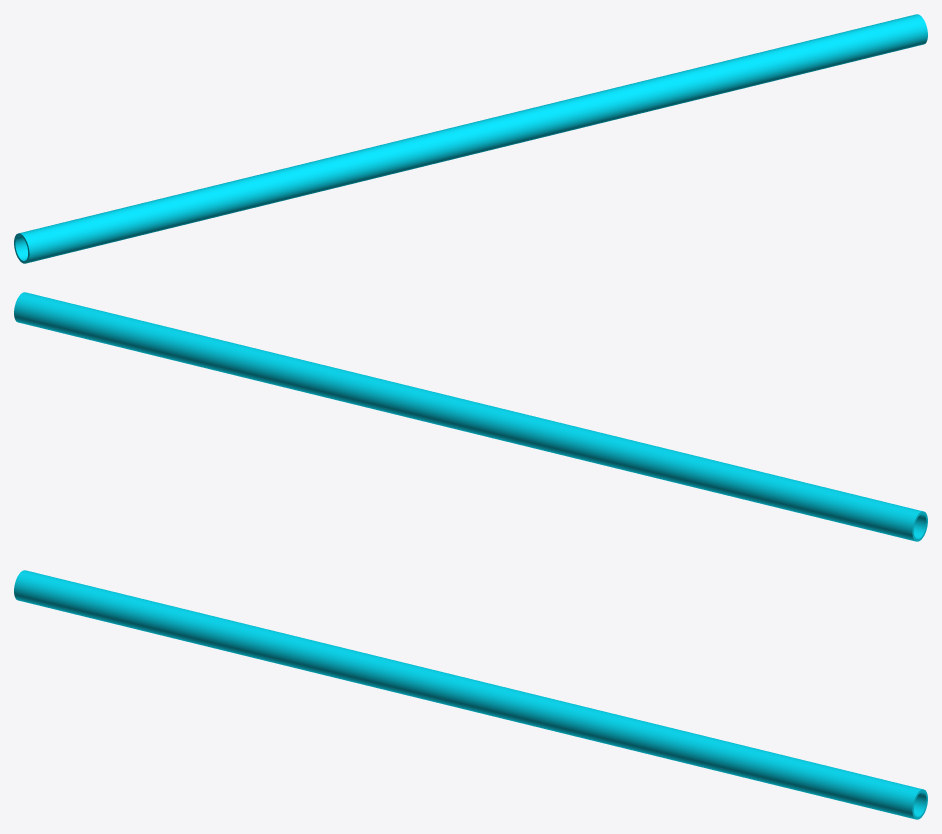
File: straight-round-pipe.glb
3 renders of one model, top to bottom at view 1: azimuth 30°, elevation 25°; view 2: azimuth 150°, elevation 25°; view 3: azimuth 330°, elevation 25°, orthographic.
Size of the model in its own units: 80 by 2.4 by 2.4.
